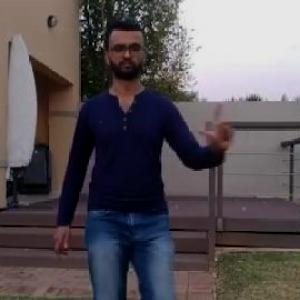land_hand: (189, 95, 237, 156)
